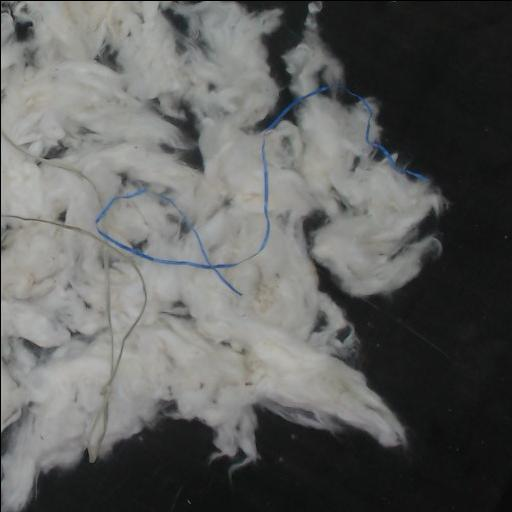conveyor belt: (27, 1, 512, 512)
cotton: (1, 1, 447, 512)
thread: (1, 162, 268, 462), (94, 139, 269, 296), (88, 258, 146, 462), (261, 85, 336, 131)
